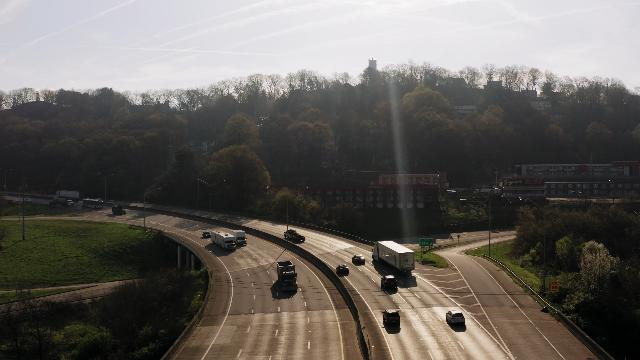bus: (82, 199, 104, 210)
car: (379, 272, 399, 294), (444, 308, 466, 327), (383, 307, 402, 325), (351, 253, 367, 267), (336, 264, 351, 277), (201, 230, 211, 238), (107, 200, 116, 203)
pickup-truck: (283, 229, 306, 242)
truck: (370, 239, 418, 275), (276, 259, 299, 295), (209, 230, 235, 251), (229, 229, 248, 245), (52, 196, 74, 208), (54, 190, 82, 198), (111, 205, 127, 214)
